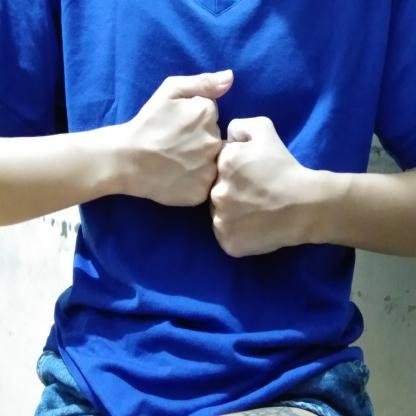brother: (108, 56, 321, 273)
